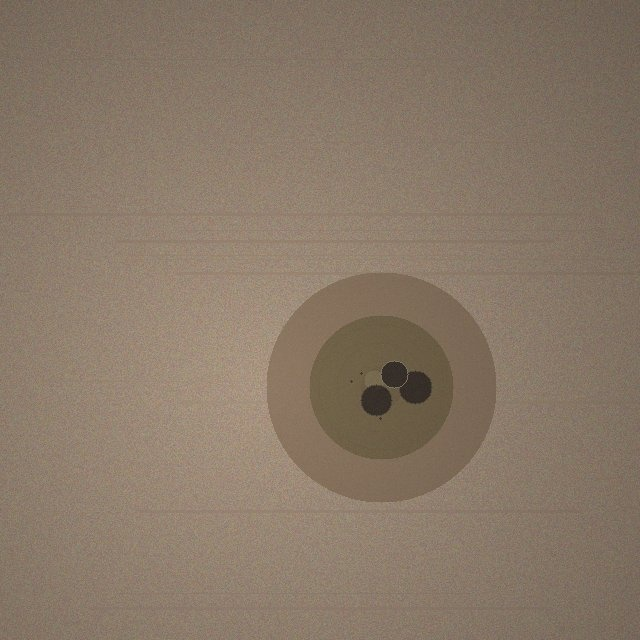shrinkage: (266, 272, 496, 502)
